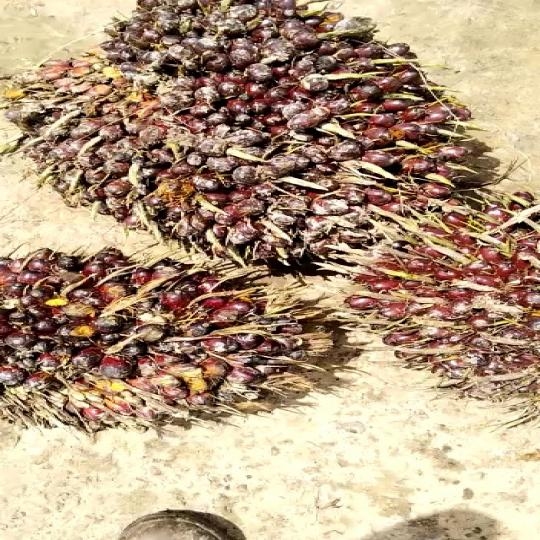kurang masak: (0, 0, 494, 264), (0, 245, 341, 430), (332, 196, 540, 404)
